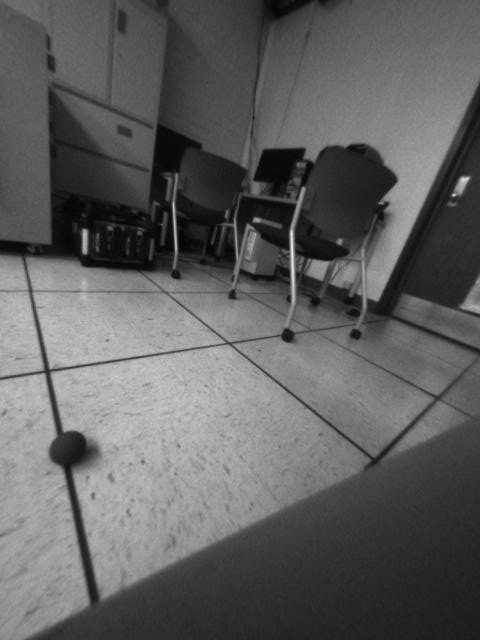dogtoy: (42, 421, 98, 474)
